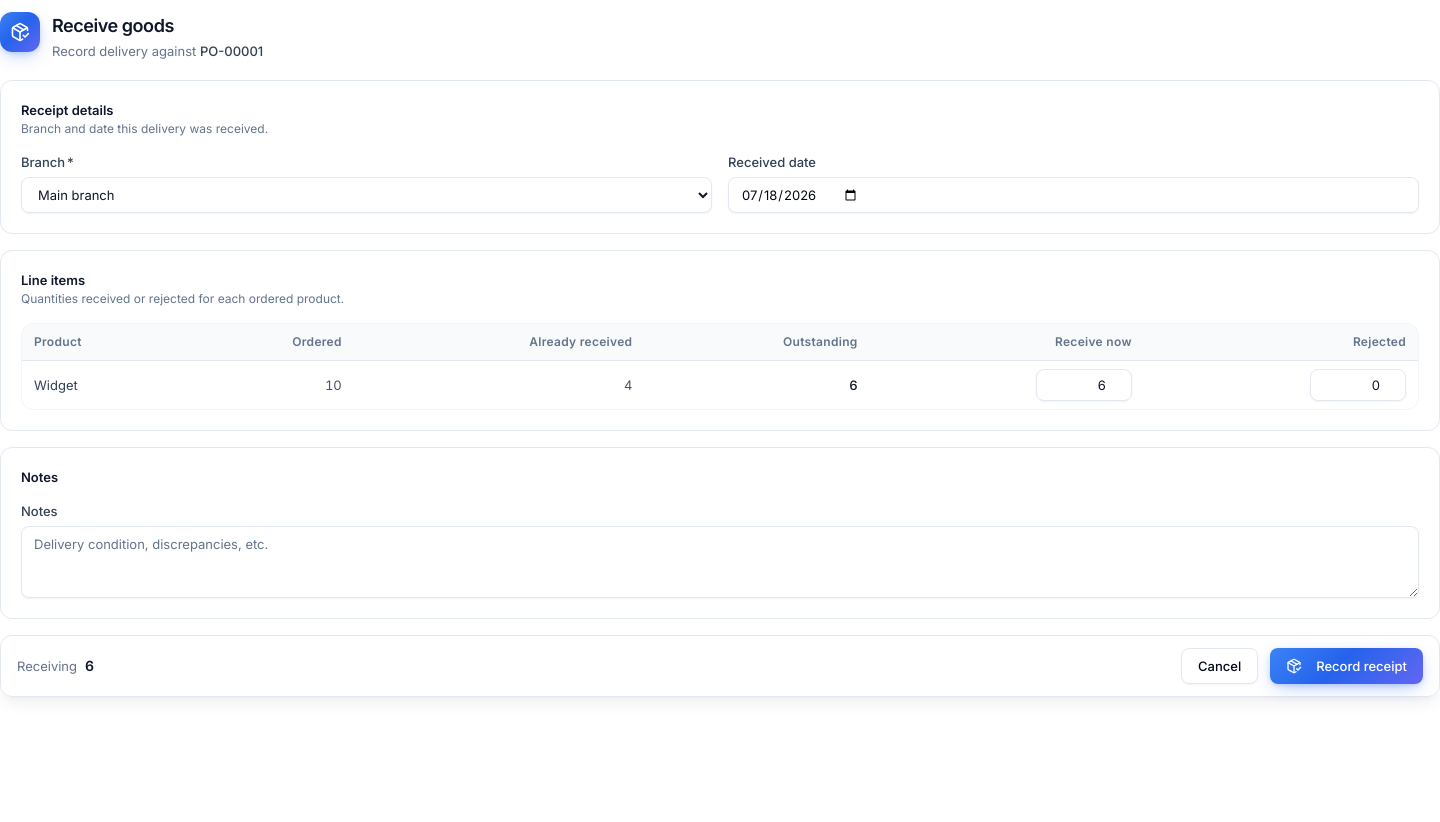
Test: GoodsReceiptForm › shows a client-side error when no quantity is recorded
Replace the text in the number field named "Receive quantity for Widget" with "0". click: (1084, 384)
box: [1036,368,1132,400]
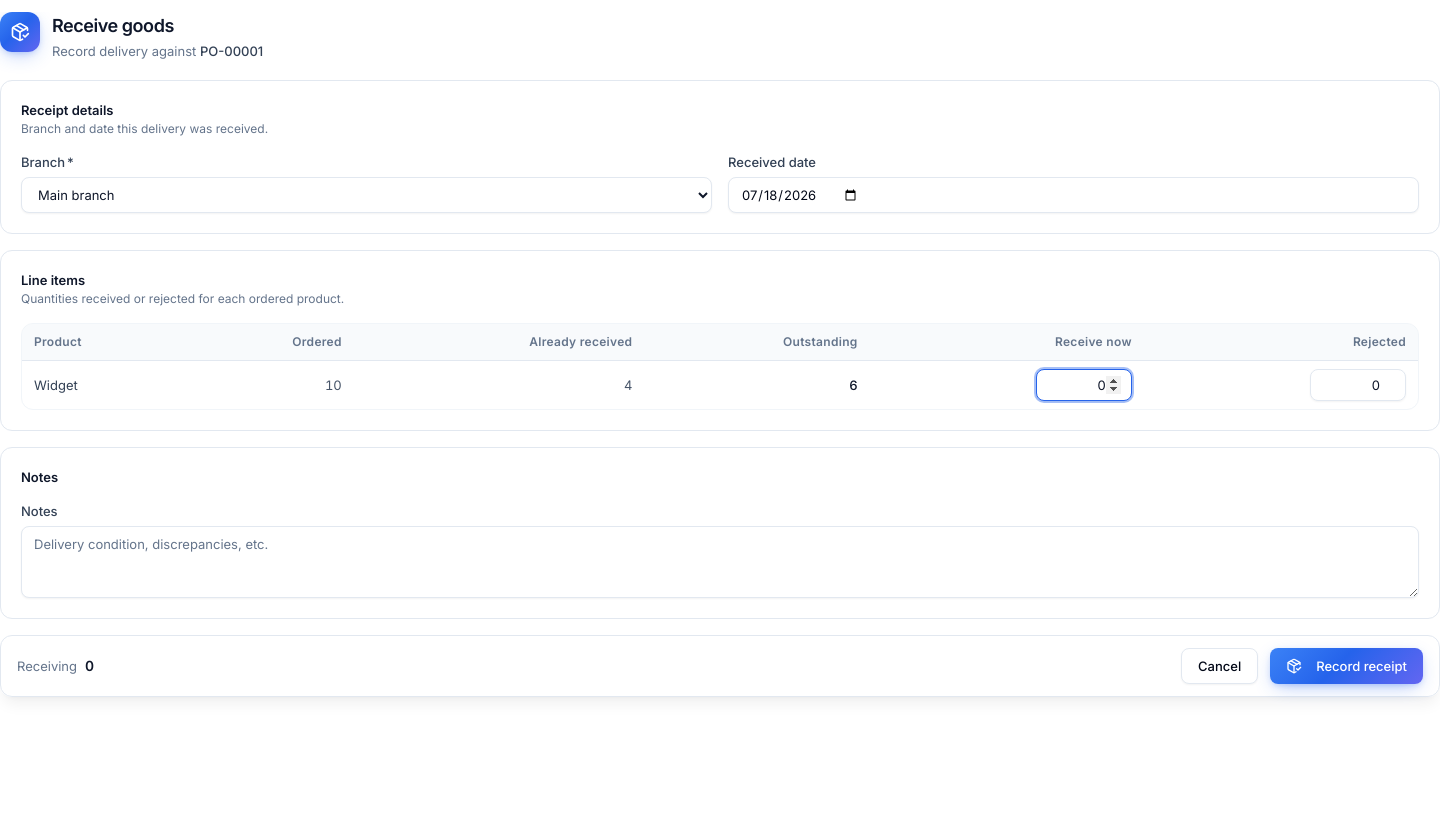
Click the button "Record receipt". click: (1347, 666)
box: [1270,648,1423,684]
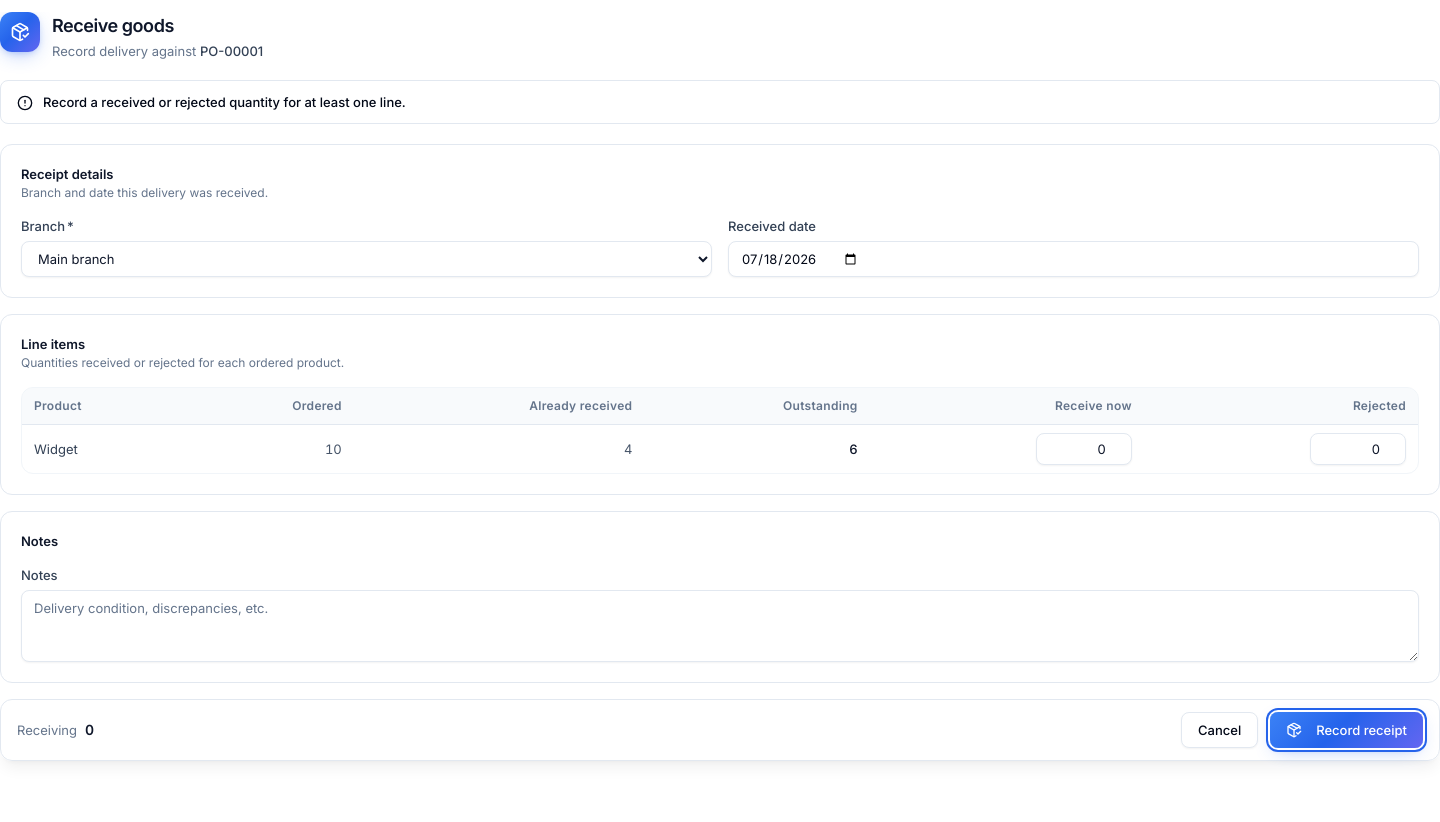
expect the text "Record a received or rejected quantity" is shown: met, box [43,94,406,110]
